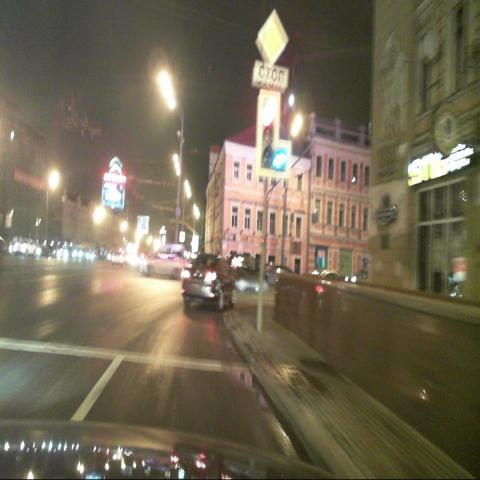6_16: (252, 59, 288, 91)
